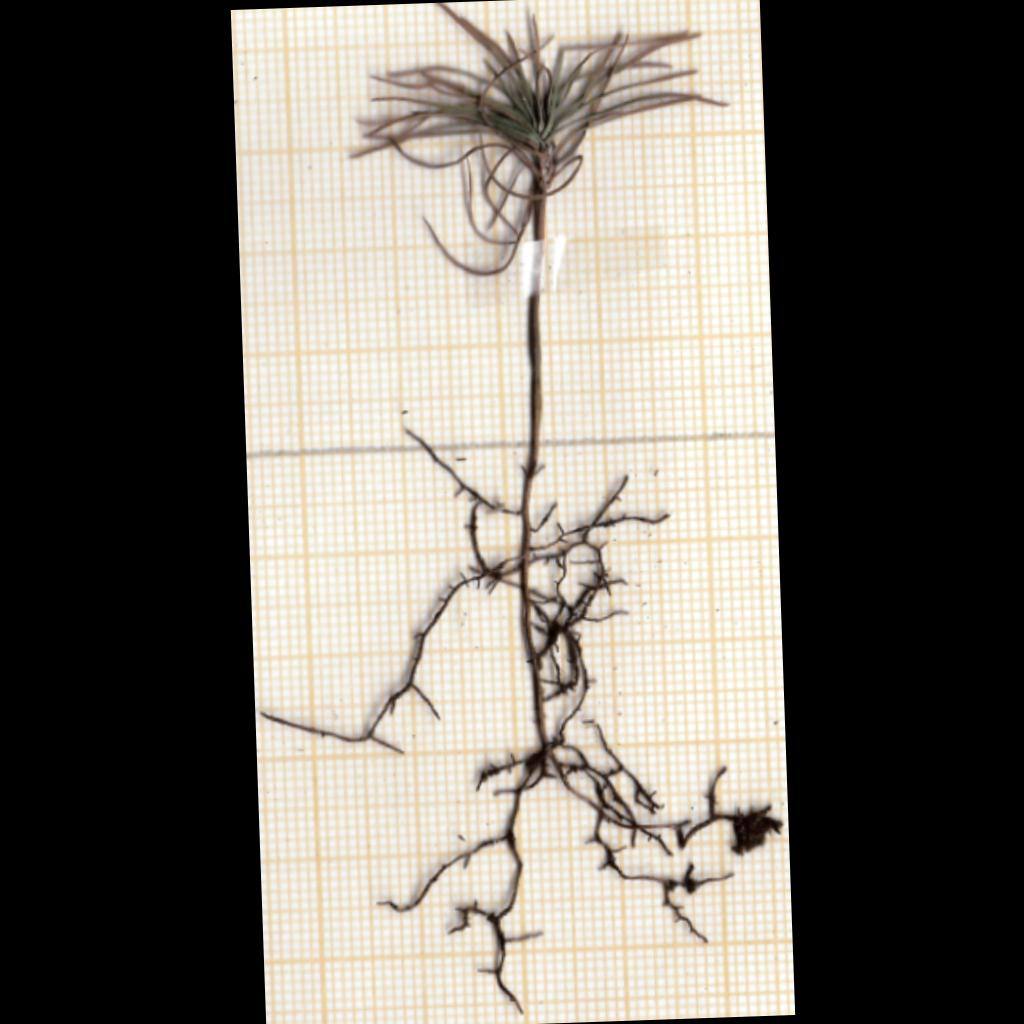flowerCedr: (358, 2, 718, 274)
rootCedr: (261, 431, 783, 1014)
stemCedr: (523, 202, 547, 472)
